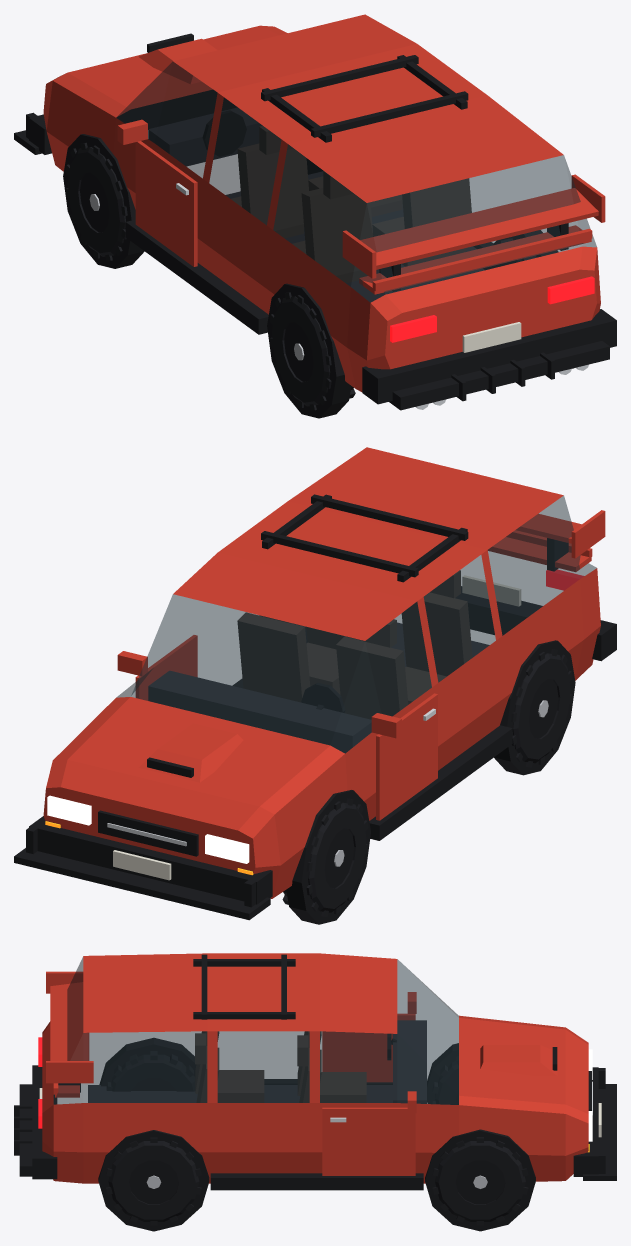
File: suv.glb
3 views of the same model, one above another, from view 1: azimuth 30°, elevation 25°; view 2: azimuth 150°, elevation 25°; view 3: azimuth 270°, elevation 25° (orthographic). The views are drawn at different scales.
Visible parts, largest first — view 1: suv, suv_door_fl, suv_wheel_rl, suv_wheel_fl; view 2: suv, suv_door_fl, suv_wheel_fl, suv_wheel_rl, suv_door_fr; view 3: suv, suv_door_fr, suv_wheel_rr, suv_wheel_fr, suv_door_fl, suv_wheel_rl, suv_wheel_fl.
Boxes of the visible parts, x1,y1,x2,y2 form: suv: (14, 14, 616, 418); suv_door_fl: (135, 141, 197, 266); suv_wheel_rl: (270, 292, 355, 410); suv_wheel_fl: (65, 142, 127, 261); suv: (14, 447, 616, 924); suv_door_fl: (376, 693, 437, 820); suv_wheel_fl: (282, 798, 368, 917); suv_wheel_rl: (511, 649, 572, 767); suv_door_fr: (135, 635, 197, 700); suv: (14, 953, 616, 1231); suv_door_fr: (322, 1107, 415, 1175); suv_wheel_rr: (106, 1137, 201, 1225); suv_wheel_fr: (432, 1137, 528, 1225); suv_door_fl: (322, 1013, 415, 1082); suv_wheel_rl: (106, 1051, 195, 1091); suv_wheel_fl: (432, 1056, 458, 1104).
Size of the model in its own units: 2.26 by 1.94 by 5.3.
